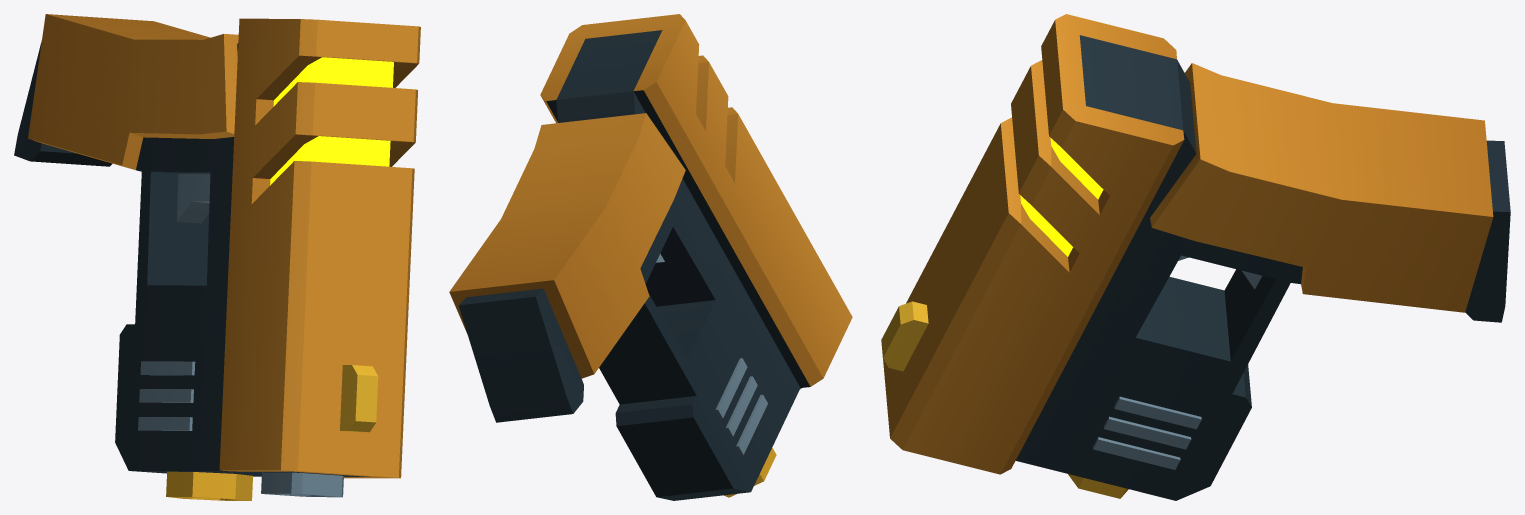
Rendered from Level3Gun.fbx.
3 renders of one model, left to right at view 1: azimuth 30°, elevation 25°; view 2: azimuth 150°, elevation 25°; view 3: azimuth 270°, elevation 25°, orthographic. The views are drawn at different scales.
Visible parts, largest first — view 1: Gun_01_Yellow; view 2: Gun_01_Yellow; view 3: Gun_01_Yellow.
Part boxes in pixels (left/top/right/bottom): Gun_01_Yellow: left=14, top=14, right=420, bottom=500; Gun_01_Yellow: left=449, top=14, right=852, bottom=500; Gun_01_Yellow: left=881, top=14, right=1510, bottom=500.
Bounding box in the file's own units: 21.84 × 41.31 × 46.18.
Materials: 1 (1 with a texture image).
